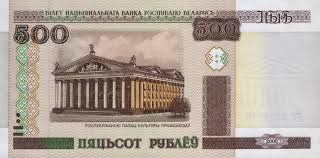belarus_ruble_500: (3, 2, 320, 157)
